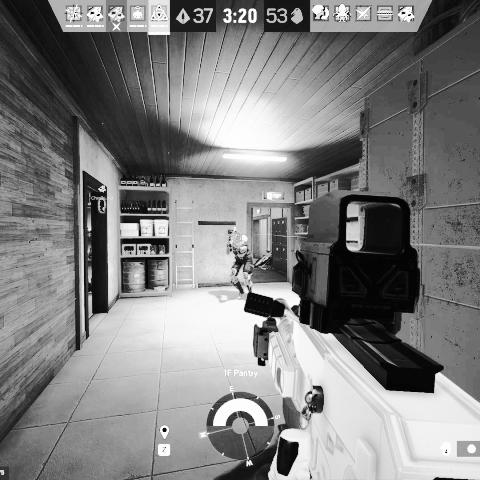Character: (224, 224, 256, 301)
Friend_label: (91, 184, 113, 201)
Head: (227, 226, 238, 238)
